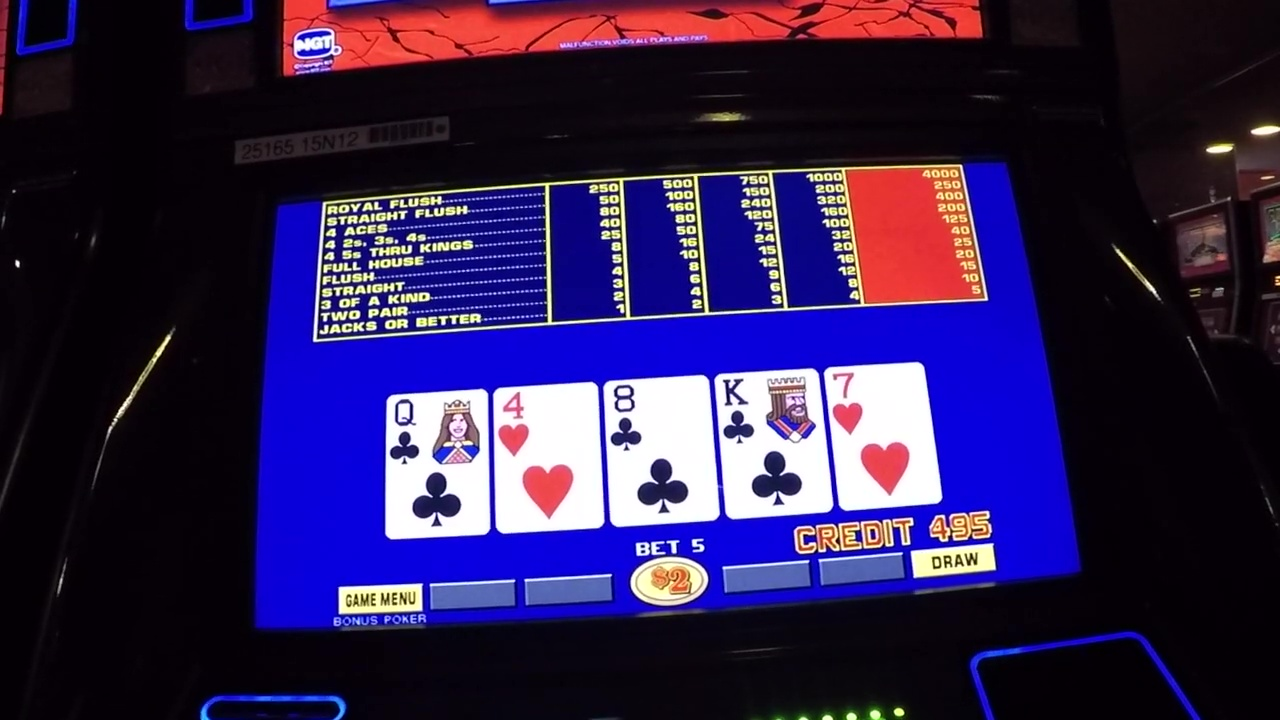C8: (607, 383, 709, 456)
CK: (720, 373, 821, 451)
CQ: (388, 394, 485, 467)
H4: (495, 391, 600, 468)
H7: (832, 371, 926, 444)
